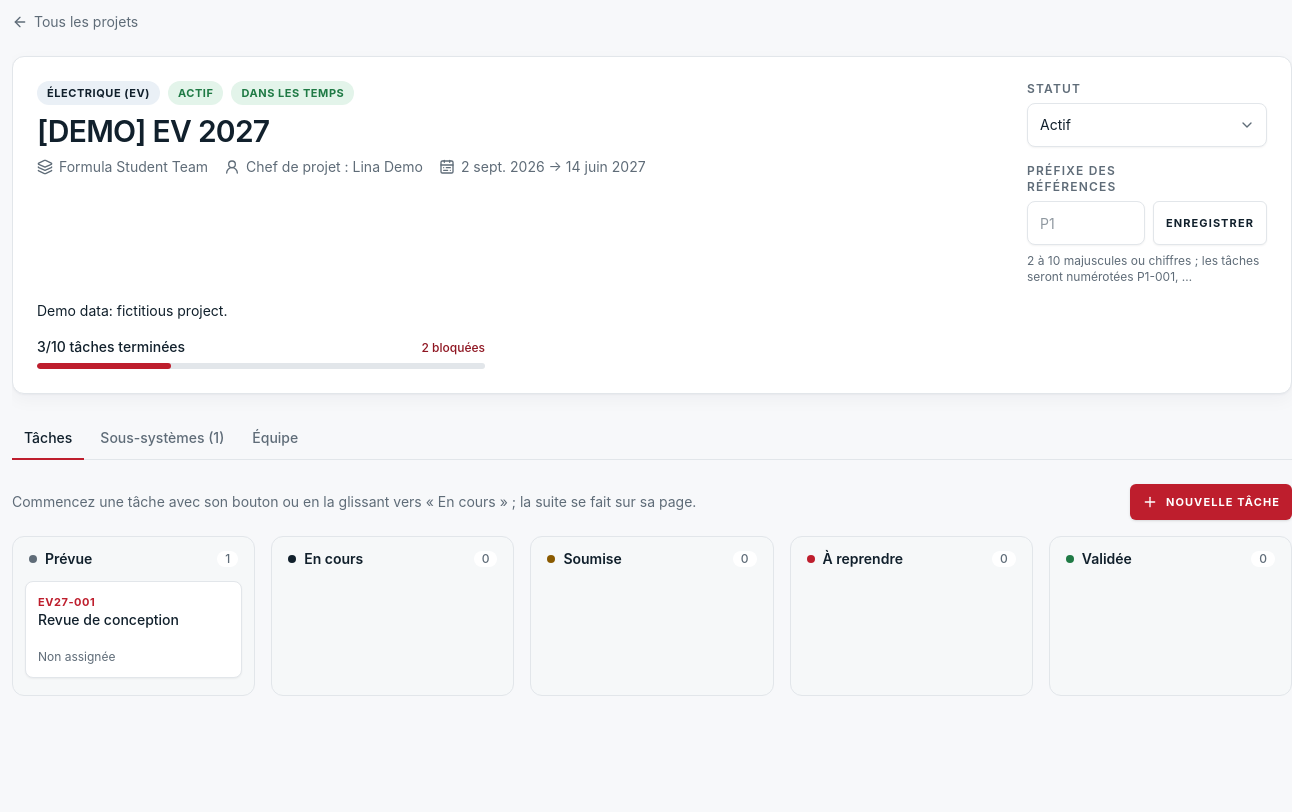
Test case: ProjectView › shows the current team
Click the tab "Équipe".
click(275, 439)  # box [240,418,310,460]
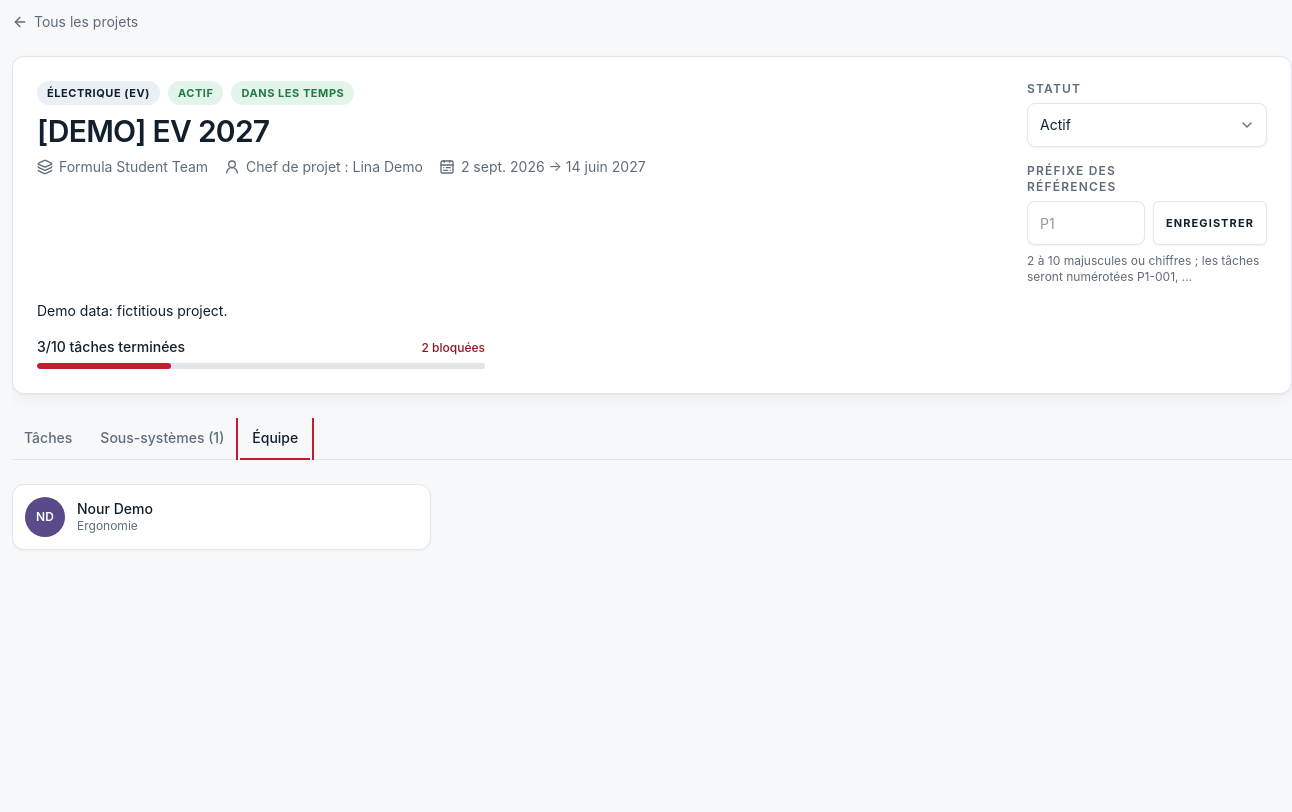
Expected: the text "Nour Demo" is shown, [77,500,153,518]
